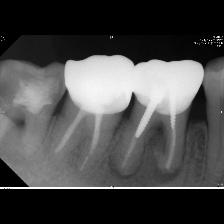apical_lesion: (101, 60, 206, 188)
